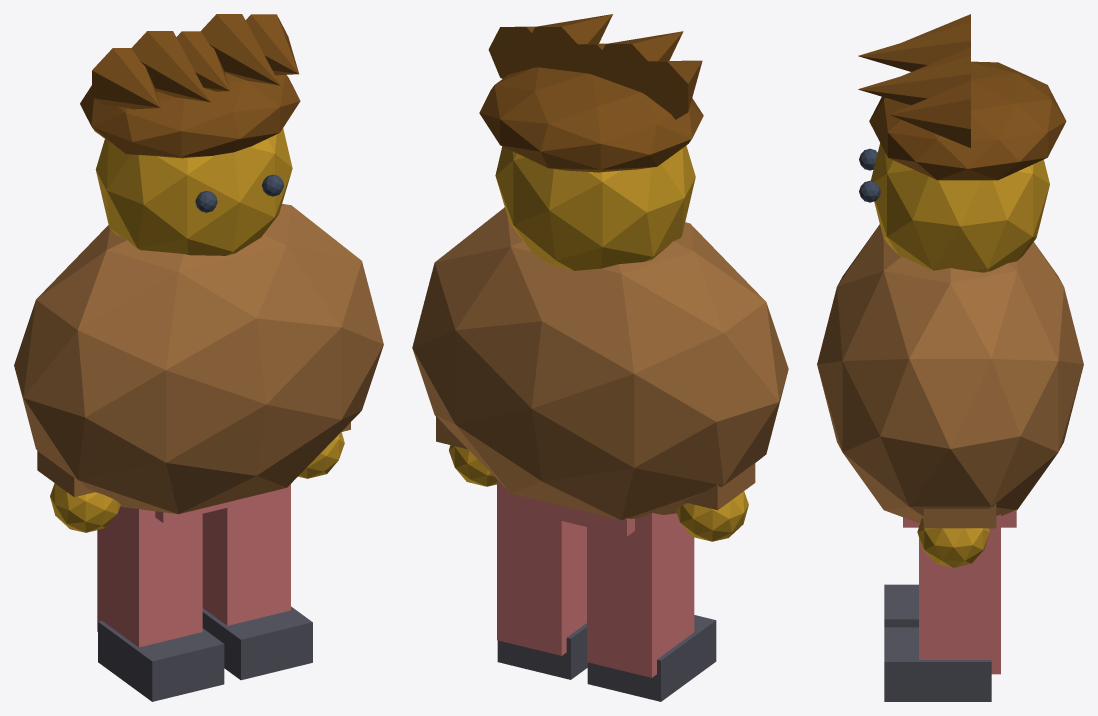
3 views of the same model, side by side, from view 1: azimuth 30°, elevation 25°; view 2: azimuth 150°, elevation 25°; view 3: azimuth 270°, elevation 25° (orthographic). The views are drawn at different scales.
Parts seen in each view (by area): view 1: part_019, part_010, part_004, part_013, part_008, part_005, part_009, part_014, part_015, part_017, part_003, part_018 (+4 smaller); view 2: part_019, part_010, part_013, part_004, part_008, part_005, part_015, part_017, part_014, part_009, part_003, part_018 (+4 smaller); view 3: part_019, part_010, part_013, part_008, part_009, part_018, part_015, part_017, part_007, part_005, part_006.
Part boxes in pixels (x1,y1,x2,y2): part_019: (14, 204, 383, 514); part_010: (95, 128, 292, 255); part_004: (97, 506, 202, 647); part_013: (80, 73, 300, 158); part_008: (202, 484, 290, 625); part_005: (98, 620, 224, 701); part_009: (202, 606, 312, 680); part_014: (92, 48, 160, 109); part_015: (131, 31, 211, 102); part_017: (201, 14, 280, 85); part_003: (50, 483, 120, 532); part_018: (245, 14, 298, 75); part_019: (412, 207, 788, 520); part_010: (495, 145, 695, 270); part_013: (479, 67, 703, 172); part_004: (587, 513, 694, 677); part_008: (497, 479, 586, 655); part_005: (587, 615, 716, 701); part_015: (594, 31, 683, 96); part_017: (524, 14, 612, 71); part_014: (629, 60, 702, 119); part_009: (497, 623, 587, 679); part_003: (676, 491, 748, 541); part_018: (488, 26, 547, 78); part_019: (817, 224, 1083, 522); part_010: (870, 143, 1049, 272); part_013: (869, 61, 1066, 180); part_008: (919, 514, 1000, 674); part_009: (884, 627, 991, 701); part_018: (889, 81, 970, 147); part_015: (858, 22, 970, 71); part_017: (858, 55, 970, 105); part_007: (917, 518, 989, 568); part_005: (884, 584, 918, 627); part_006: (923, 503, 996, 528).
Bounding box in the file's own units: 1.48 × 2.54 × 0.9898.
